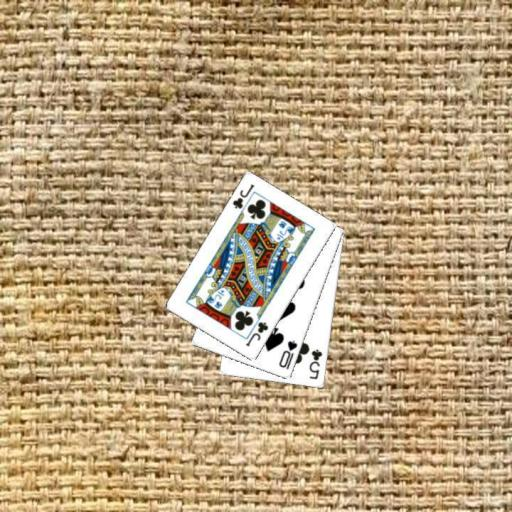card-corner: (243, 318, 270, 348), (276, 338, 299, 371), (229, 182, 256, 210), (306, 346, 324, 381)
